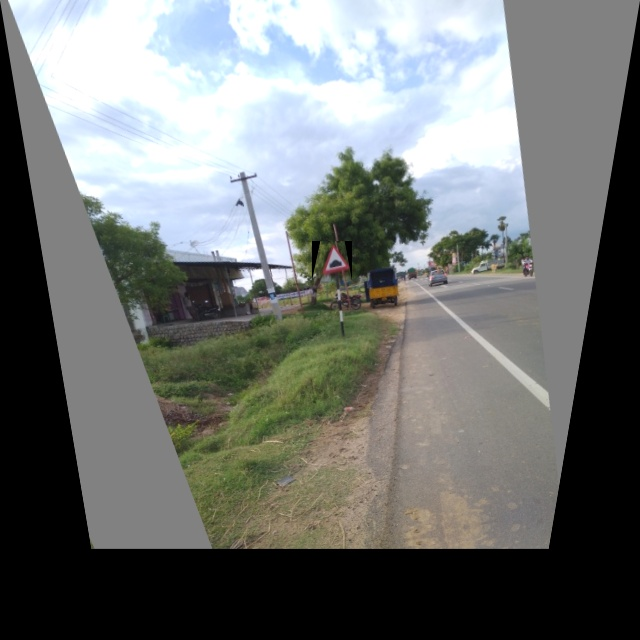Hump_or_Rough_Road: (312, 241, 352, 281)
